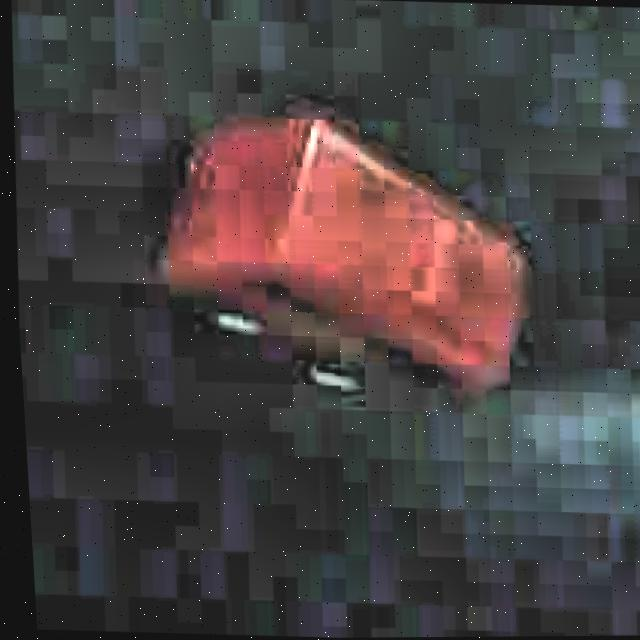bus: (130, 86, 560, 413)
